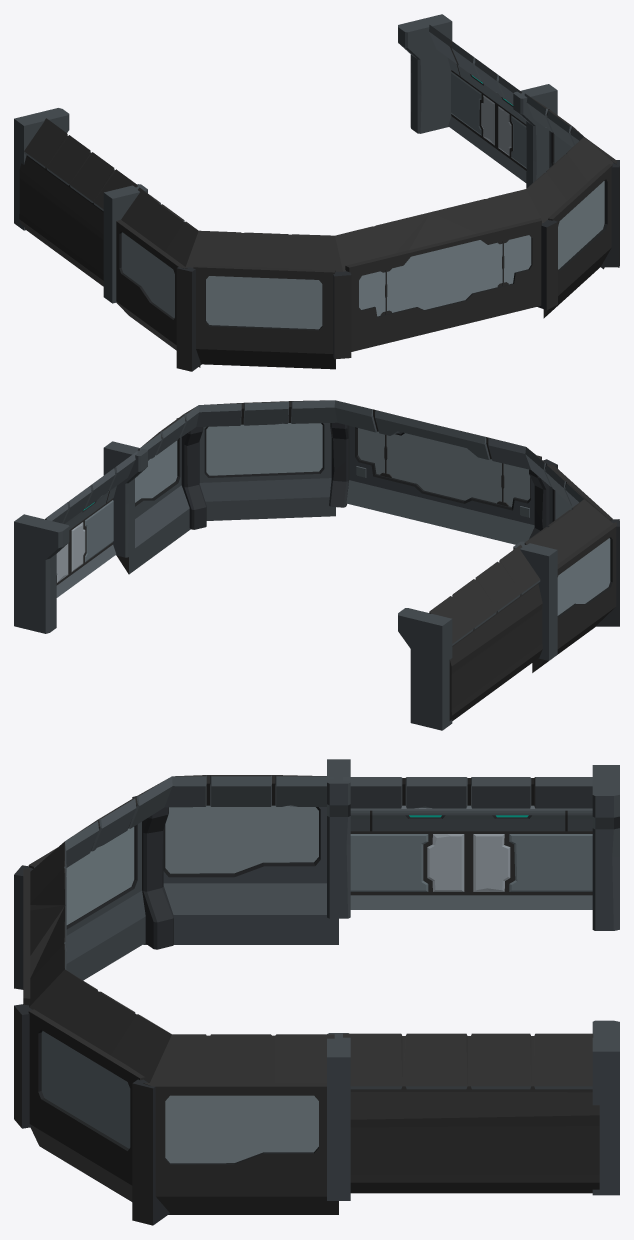
The model's file is SM_Bld_Bridge_Walls_01.fbx.
3 views of the same model, one above another, from view 1: azimuth 30°, elevation 25°; view 2: azimuth 150°, elevation 25°; view 3: azimuth 270°, elevation 25° (orthographic). The views are drawn at different scales.
Visible parts, largest first — view 1: SM_Bld_Bridge_Walls_01, SM_Bld_Bridge_Walls_Glass_01; view 2: SM_Bld_Bridge_Walls_01, SM_Bld_Bridge_Walls_Glass_01; view 3: SM_Bld_Bridge_Walls_01, SM_Bld_Bridge_Walls_Glass_01.
Part boxes in pixels (<box>): SM_Bld_Bridge_Walls_01: <box>14,14,619,371</box>; SM_Bld_Bridge_Walls_Glass_01: <box>121,134,604,329</box>; SM_Bld_Bridge_Walls_01: <box>14,400,619,730</box>; SM_Bld_Bridge_Walls_Glass_01: <box>135,423,610,615</box>; SM_Bld_Bridge_Walls_01: <box>14,759,619,1225</box>; SM_Bld_Bridge_Walls_Glass_01: <box>41,805,318,1163</box>.
Size of the model in its own units: 1803 by 493 by 1550.
1 material, 1 textured.
